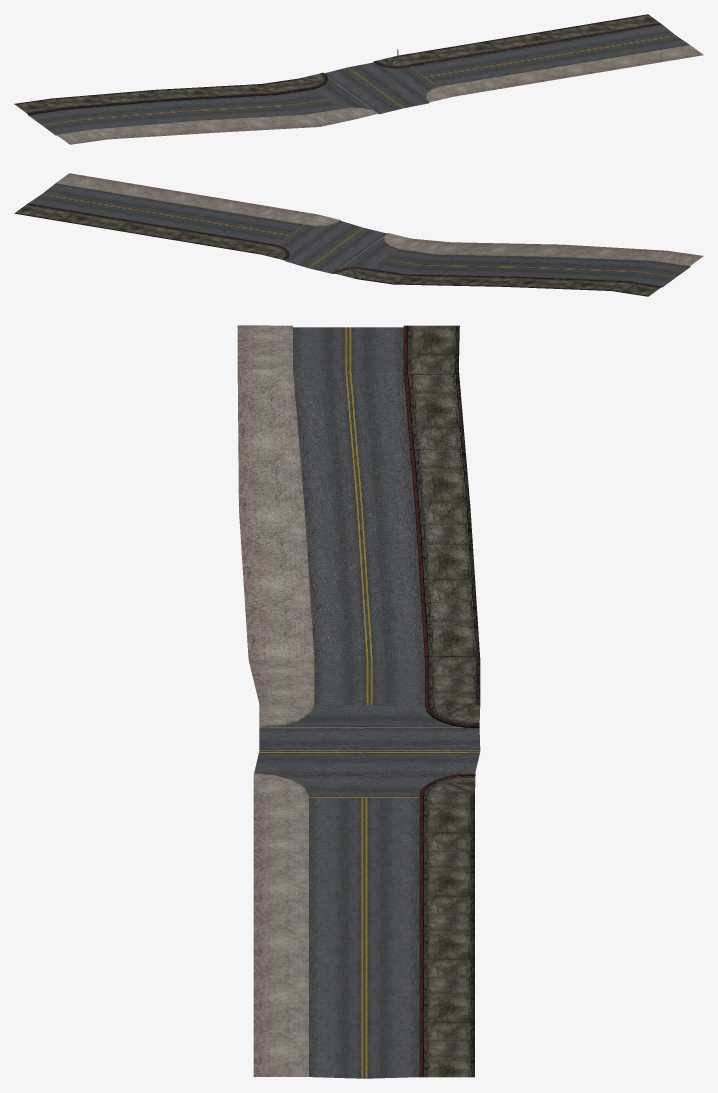
Rendered from lae2_roads42.obj.
The picture shows the model from 3 angles, top to bottom: view 1: azimuth 30°, elevation 25°; view 2: azimuth 150°, elevation 25°; view 3: azimuth 270°, elevation 25°; orthographic projection. The views are drawn at different scales.
Parts seen in each view (by area): view 1: Lae2_roads42; view 2: Lae2_roads42; view 3: Lae2_roads42.
Boxes of the visible parts, x1,y1,x2,y2 form: Lae2_roads42: (14, 14, 703, 144); Lae2_roads42: (14, 173, 703, 296); Lae2_roads42: (237, 325, 480, 1078).
Bounding box in the file's own units: 132 × 13.78 × 21.94.
